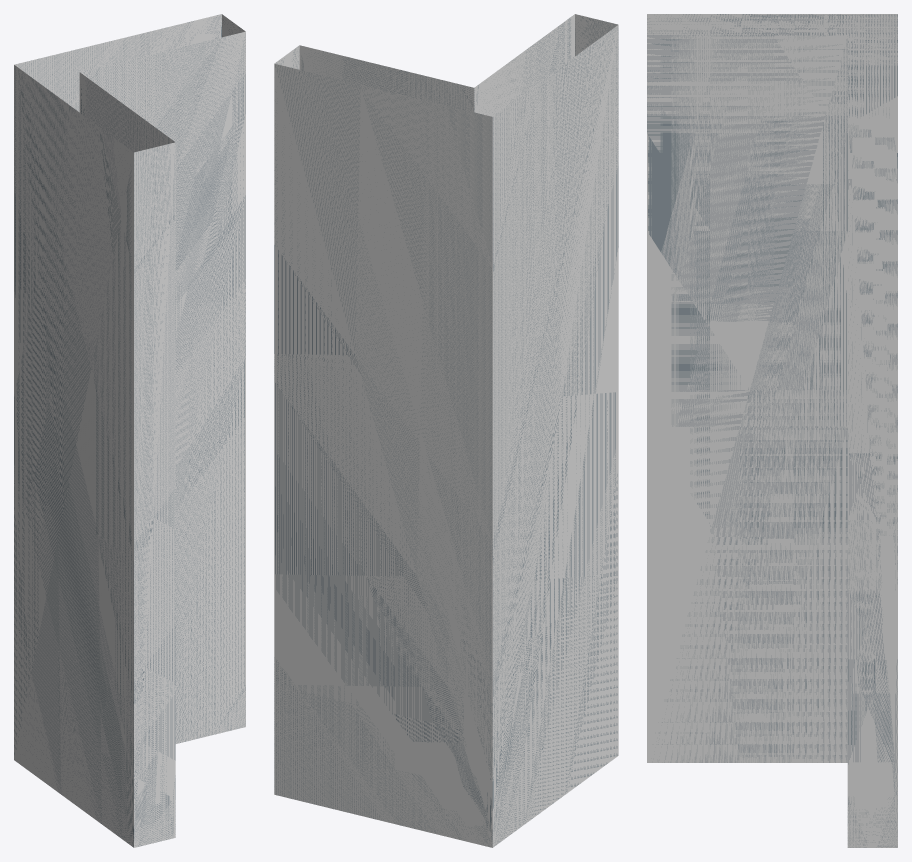
File: Corner_ds_100x100x025x4.dae
3 renders of one model, left to right at view 1: azimuth 30°, elevation 25°; view 2: azimuth 150°, elevation 25°; view 3: azimuth 270°, elevation 25°, orthographic. The views are drawn at different scales.
Parts seen in each view (by area): view 1: group_0; view 2: group_0; view 3: group_0.
Boxes of the visible parts, <box> form: group_0: <box>14,14,245,847</box>; group_0: <box>274,14,618,847</box>; group_0: <box>647,14,897,847</box>.
Size of the model in its own units: 49.21 by 49.21 by 157.
